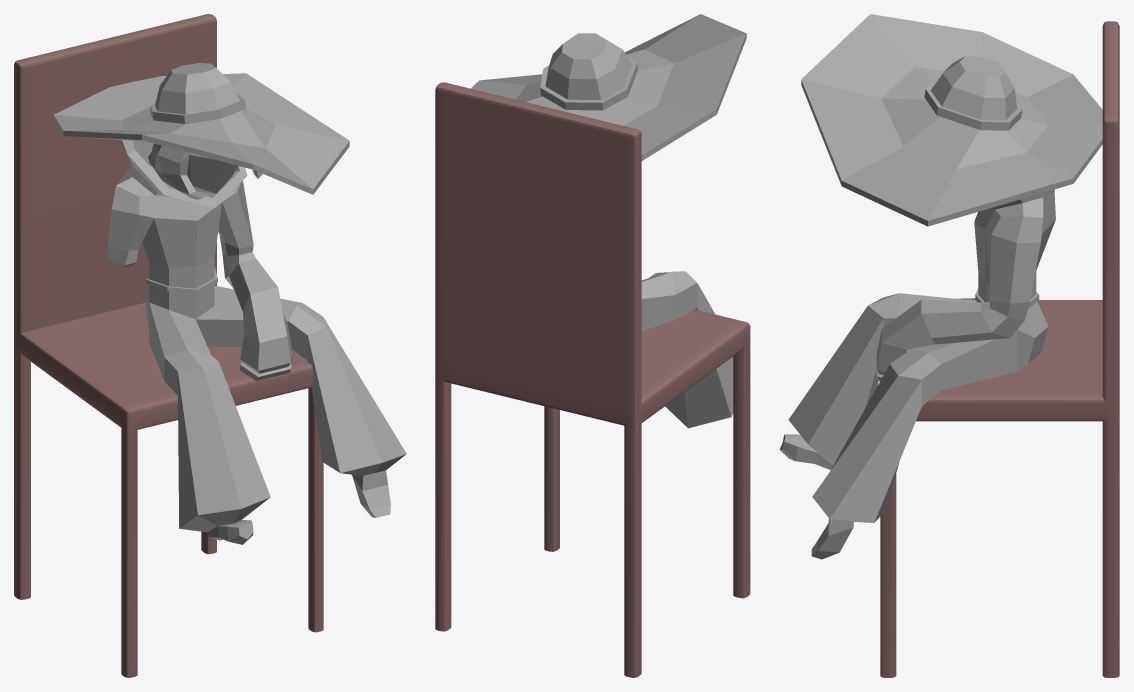
File: 4.0_Low_Tutty.fbx
3 renders of one model, left to right at view 1: azimuth 30°, elevation 25°; view 2: azimuth 150°, elevation 25°; view 3: azimuth 270°, elevation 25°, orthographic. The views are drawn at different scales.
Parts seen in each view (by area): view 1: Low_Tutty_Body, Chair_; view 2: Chair_, Low_Tutty_Body; view 3: Low_Tutty_Body, Chair_.
Boxes of the visible parts, box(x1,y1,x2,y2) form: Low_Tutty_Body: box(53, 63, 406, 544); Chair_: box(14, 14, 323, 677); Chair_: box(435, 82, 750, 677); Low_Tutty_Body: box(471, 14, 746, 428); Low_Tutty_Body: box(779, 14, 1102, 559); Chair_: box(880, 21, 1119, 677).
Size of the model in its own units: 5.63 by 10.98 by 5.9.
